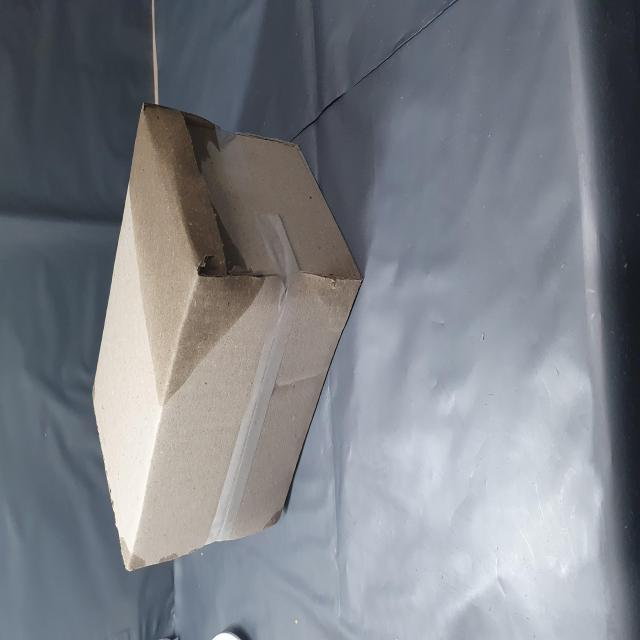wet: (145, 217, 302, 460)
